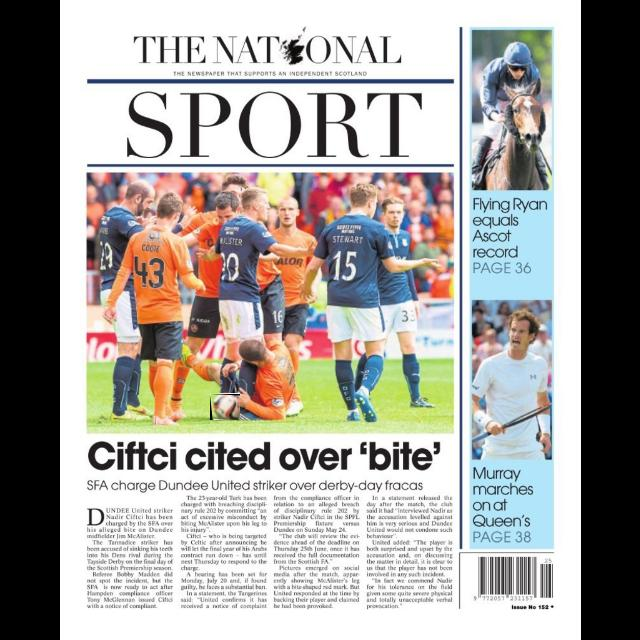Football: (210, 394, 240, 420)
